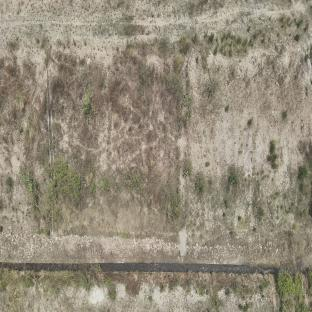rock_toe: (1, 228, 178, 261), (190, 238, 280, 262)
slope_drain: (45, 67, 58, 234), (176, 135, 188, 258)
toe_drain: (0, 260, 277, 275)
vegetation: (45, 155, 85, 211), (277, 276, 310, 304)
